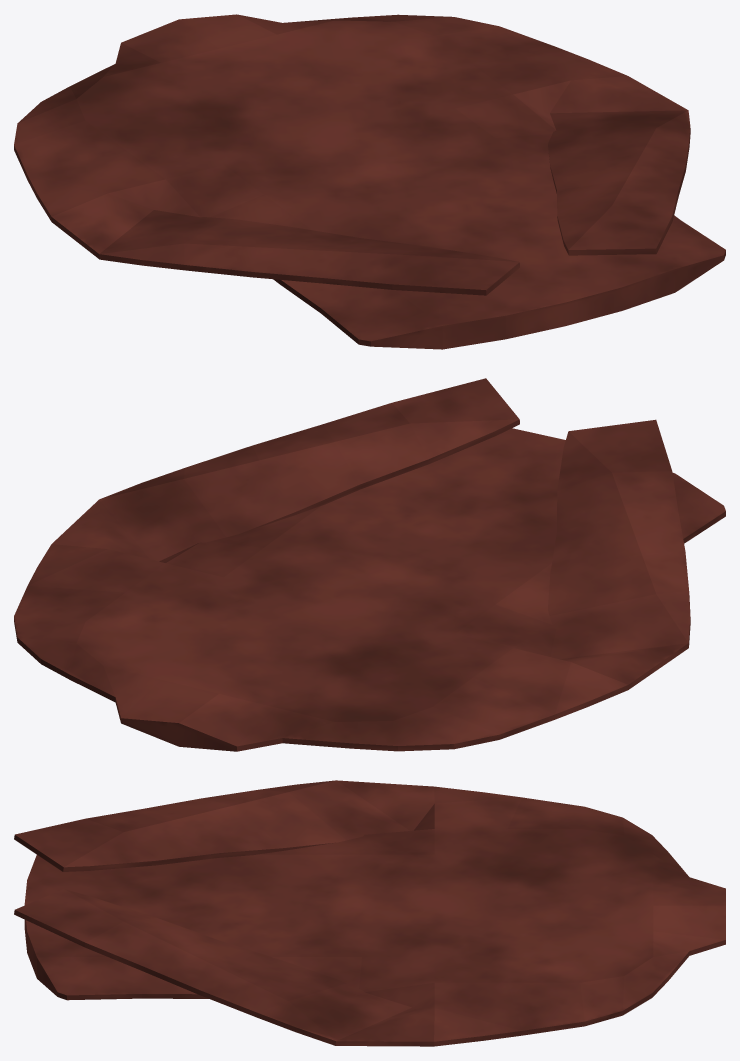
Rendered from jacket1.fbx.
The picture shows the model from 3 angles, top to bottom: view 1: azimuth 30°, elevation 25°; view 2: azimuth 150°, elevation 25°; view 3: azimuth 270°, elevation 25°; orthographic projection. The views are drawn at different scales.
Parts seen in each view (by area): view 1: jacket1; view 2: jacket1; view 3: jacket1.
Boxes of the visible parts, box(x1,y1,x2,y2) form: jacket1: box(14, 14, 725, 349); jacket1: box(14, 378, 725, 751); jacket1: box(14, 780, 725, 1046).
Size of the model in its own units: 170 by 16.7 by 196.
1 material, 1 textured.
